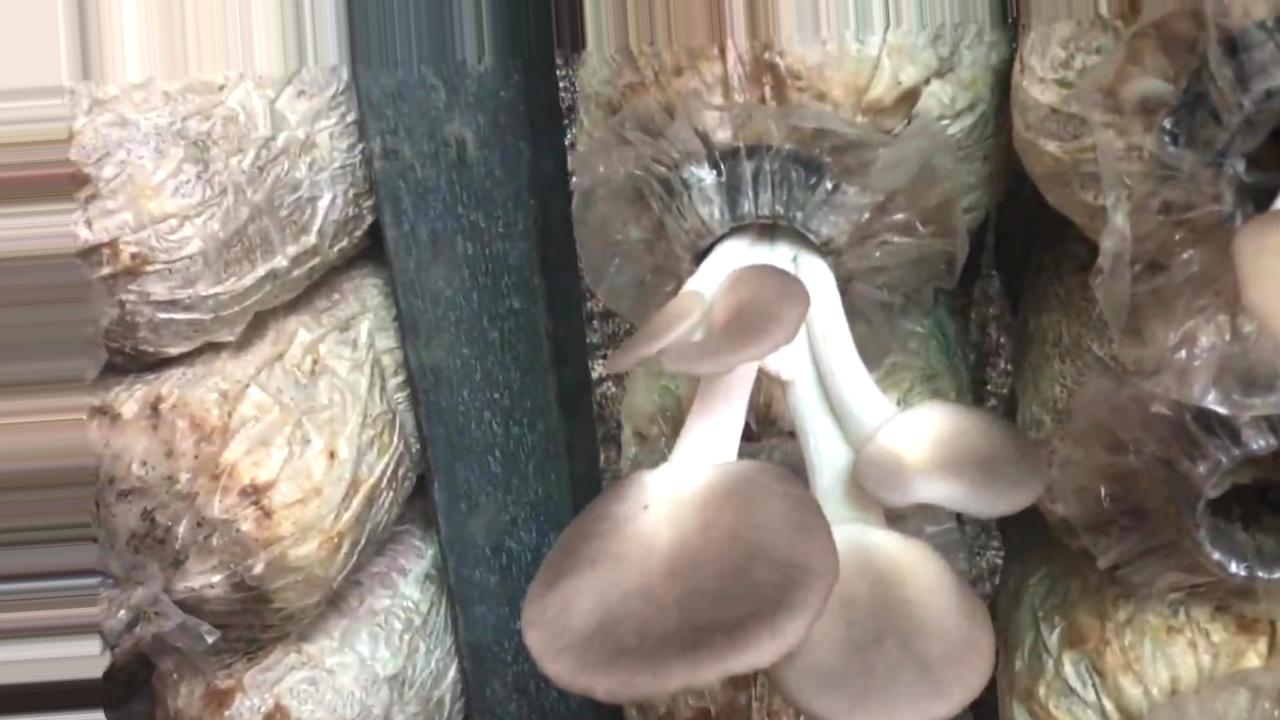nam: (524, 146, 1050, 716)
